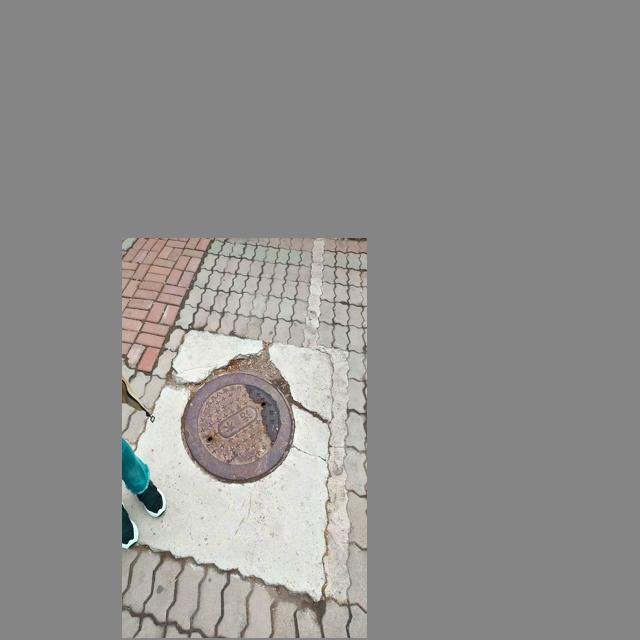circle: (159, 345, 323, 501)
